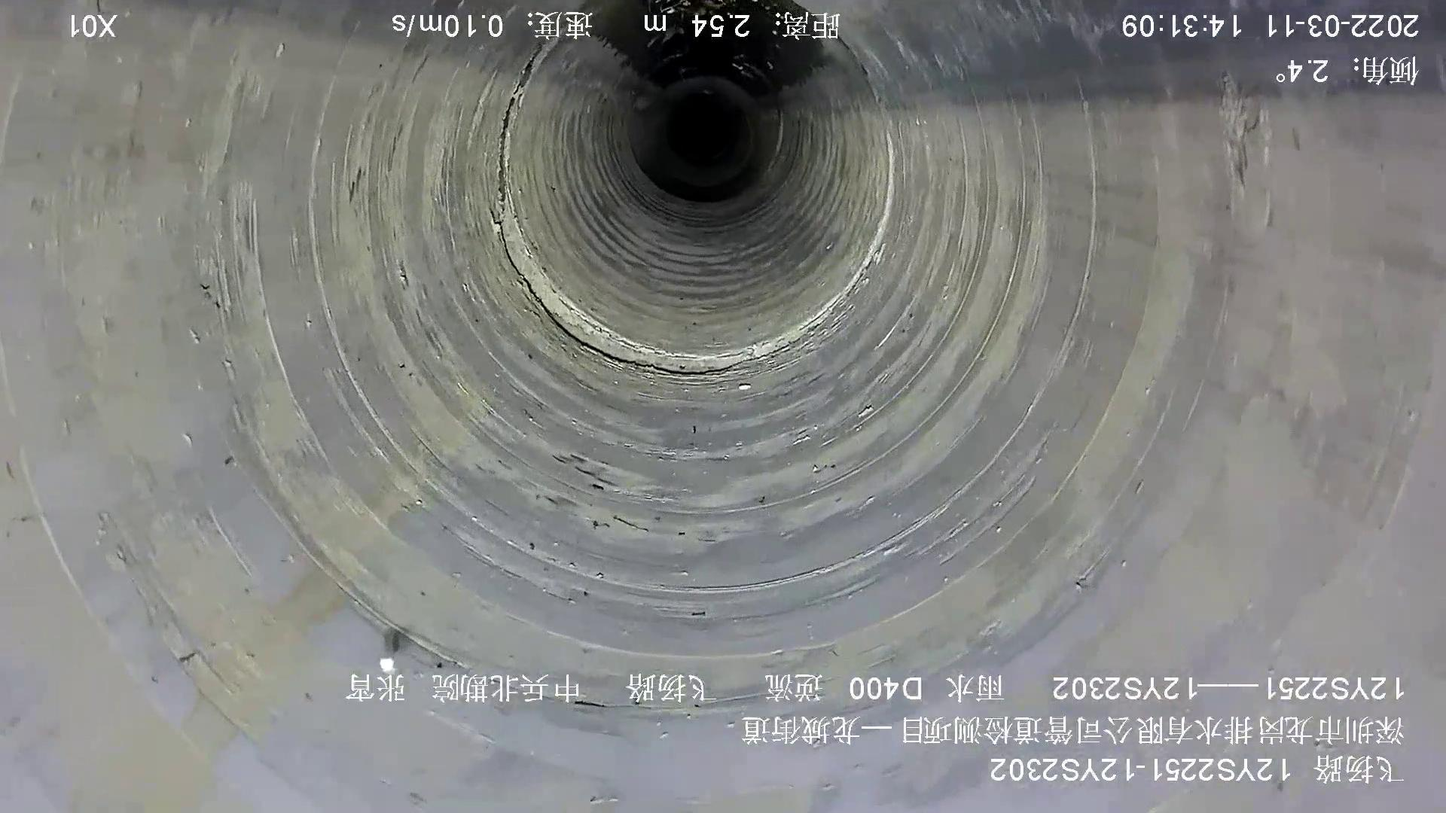CKTJ: (497, 190, 814, 373)
